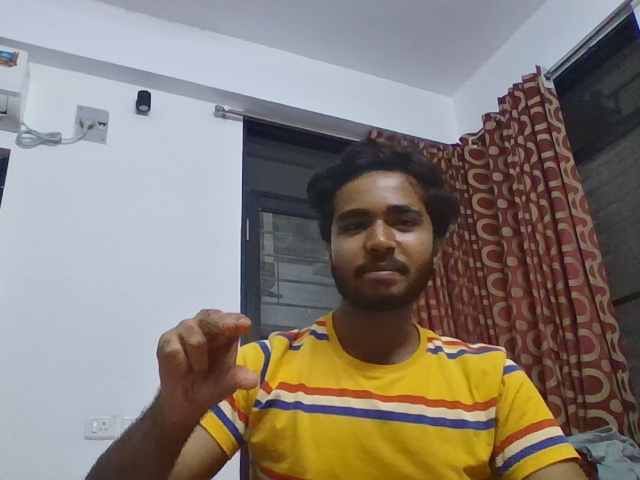No: (131, 299, 281, 425)
